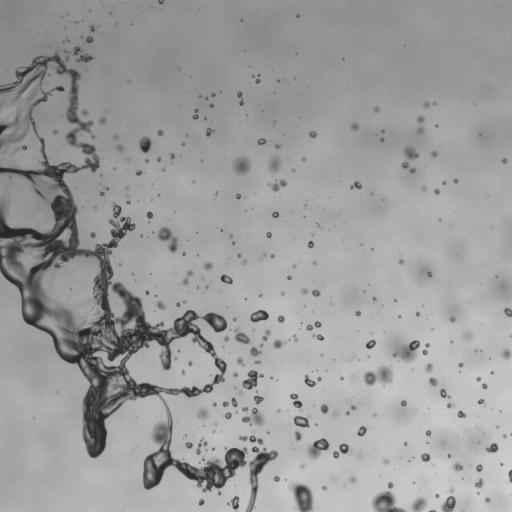droplet: (371, 490, 407, 511), (289, 482, 313, 511), (363, 365, 393, 386), (393, 340, 419, 362), (307, 438, 329, 459), (401, 146, 418, 172), (242, 370, 263, 389), (242, 407, 264, 425), (232, 156, 250, 175), (72, 46, 92, 62), (234, 327, 250, 344), (333, 443, 350, 458), (440, 495, 455, 511), (410, 497, 427, 511), (268, 179, 286, 191), (250, 310, 268, 322), (139, 136, 151, 153), (268, 157, 280, 172), (227, 496, 239, 511), (293, 416, 309, 427), (304, 375, 315, 387), (197, 408, 208, 419), (220, 274, 232, 284), (273, 339, 286, 348), (485, 443, 498, 452), (365, 339, 375, 349), (501, 349, 511, 359), (357, 426, 367, 436), (250, 347, 261, 356), (440, 389, 450, 398), (474, 478, 483, 488), (350, 181, 361, 189), (254, 395, 263, 404), (421, 453, 430, 462), (203, 262, 213, 270), (311, 289, 320, 297), (156, 301, 165, 309), (463, 333, 472, 341), (425, 363, 433, 372), (429, 377, 437, 386), (320, 404, 328, 413), (457, 410, 466, 418), (454, 462, 462, 471), (416, 115, 424, 123), (351, 122, 359, 130), (206, 127, 213, 136), (257, 138, 266, 145), (504, 308, 511, 317), (295, 431, 301, 441), (85, 36, 93, 43), (237, 357, 244, 365), (231, 398, 237, 407), (99, 117, 106, 124), (309, 131, 316, 138), (277, 315, 284, 322), (224, 412, 231, 419), (382, 458, 389, 465), (417, 127, 424, 133), (116, 145, 123, 151), (146, 211, 152, 218), (308, 241, 314, 248), (301, 288, 308, 294), (446, 402, 453, 408), (185, 442, 192, 448), (476, 464, 482, 471), (198, 499, 204, 505), (272, 212, 279, 217), (90, 25, 95, 31), (255, 77, 260, 83), (82, 110, 88, 115), (157, 130, 163, 135), (431, 151, 437, 156), (136, 170, 142, 175), (427, 271, 432, 277), (355, 310, 360, 316), (450, 316, 455, 322), (422, 349, 427, 355), (222, 401, 228, 406), (401, 400, 406, 406), (350, 405, 356, 410), (242, 407, 248, 412), (349, 477, 355, 482), (388, 482, 393, 488), (321, 485, 327, 490), (484, 497, 490, 502), (424, 102, 429, 107), (374, 107, 379, 112), (502, 158, 507, 163), (421, 186, 426, 191), (434, 189, 439, 194), (90, 232, 95, 237), (266, 232, 271, 237), (224, 336, 229, 341), (482, 383, 487, 388), (425, 430, 430, 435), (274, 476, 279, 481), (448, 488, 453, 493), (0, 100, 4, 106), (170, 153, 174, 159), (236, 193, 240, 199), (293, 335, 297, 341), (478, 399, 484, 403), (113, 135, 118, 139), (21, 145, 26, 149), (275, 144, 280, 148), (156, 157, 161, 161), (399, 259, 403, 264), (188, 361, 192, 366), (458, 362, 462, 367), (233, 372, 237, 377), (333, 411, 337, 416), (53, 130, 57, 134), (14, 148, 18, 152), (453, 179, 457, 183), (442, 181, 446, 185), (100, 191, 104, 195), (126, 200, 130, 204), (270, 254, 274, 258), (242, 260, 246, 264), (292, 264, 296, 268), (176, 302, 180, 306), (425, 343, 429, 347), (317, 377, 321, 381), (476, 377, 480, 381), (300, 464, 304, 468), (158, 0, 162, 3), (211, 93, 215, 96), (209, 104, 213, 107), (302, 157, 305, 161), (229, 234, 232, 238), (237, 254, 241, 257), (287, 276, 291, 279), (373, 297, 376, 301), (255, 360, 259, 363), (181, 370, 184, 374), (435, 494, 439, 497), (380, 138, 383, 141), (145, 159, 148, 162), (145, 291, 148, 294), (281, 292, 284, 295), (259, 294, 262, 297), (416, 312, 419, 315), (233, 318, 236, 321), (260, 344, 263, 347), (239, 391, 242, 394), (346, 411, 349, 414), (503, 434, 506, 437), (404, 442, 407, 445), (447, 454, 450, 457), (381, 130, 384, 132), (313, 262, 316, 264), (205, 286, 208, 288), (394, 299, 396, 302), (183, 300, 185, 303), (340, 377, 343, 379), (213, 403, 216, 405), (212, 447, 214, 450), (182, 143, 184, 145), (292, 169, 294, 171), (105, 187, 107, 189), (126, 187, 128, 189), (233, 242, 235, 244), (263, 254, 265, 256), (491, 371, 493, 373), (277, 409, 279, 411), (501, 463, 503, 465), (477, 492, 479, 494)
ligament: (0, 51, 278, 511), (157, 227, 177, 252), (240, 434, 263, 444), (290, 393, 301, 409), (196, 438, 207, 454), (181, 270, 192, 285), (306, 321, 321, 330), (262, 329, 270, 341), (237, 91, 243, 105), (313, 334, 323, 340), (193, 109, 198, 119), (508, 469, 511, 483), (429, 509, 435, 511)
